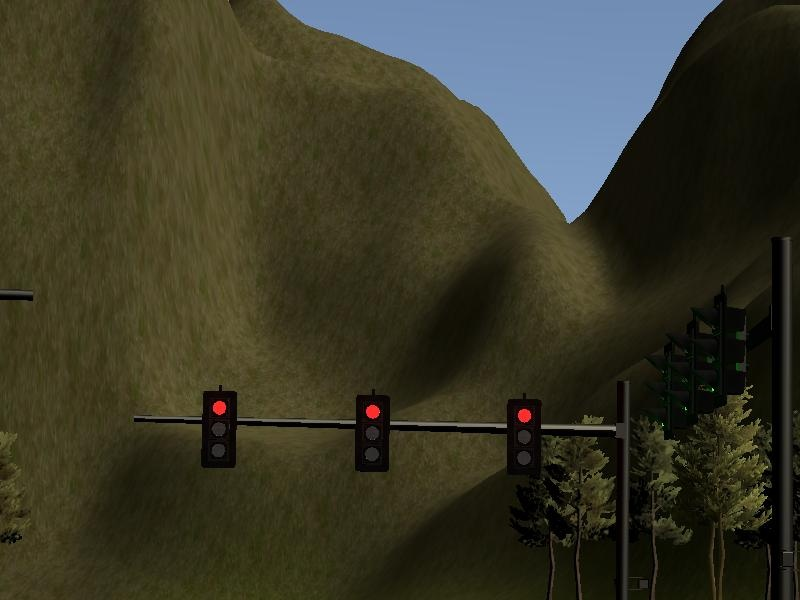red: (355, 395, 388, 471), (203, 393, 237, 465), (508, 400, 540, 474)
